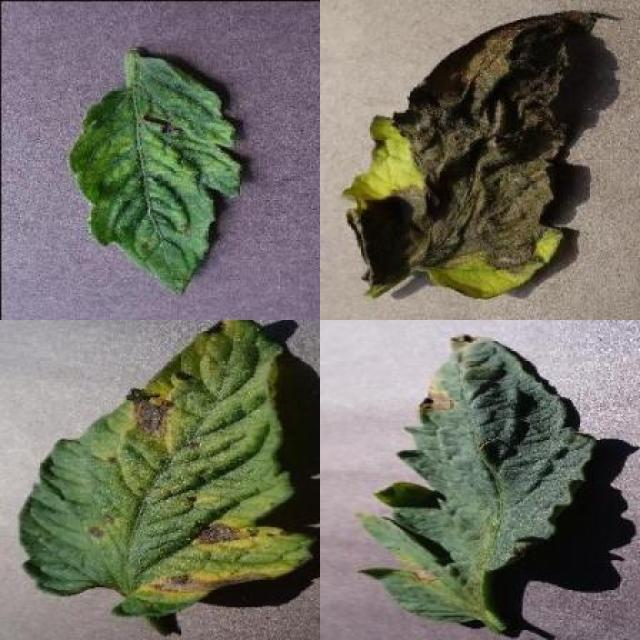Early Blight: (16, 320, 316, 617), (361, 334, 593, 624)
Late Blight: (338, 8, 602, 302)
Mosaic Virus: (65, 54, 241, 299)
